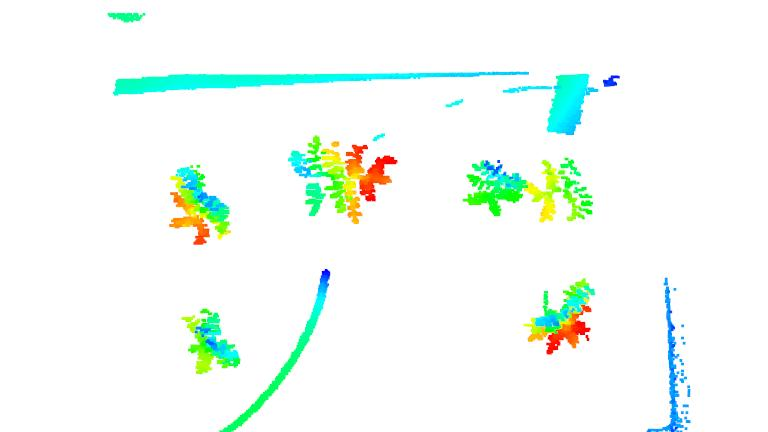chickpea: (287, 132, 400, 225), (525, 277, 599, 356), (168, 161, 234, 248), (179, 304, 244, 379), (527, 156, 594, 224), (462, 158, 528, 217)
